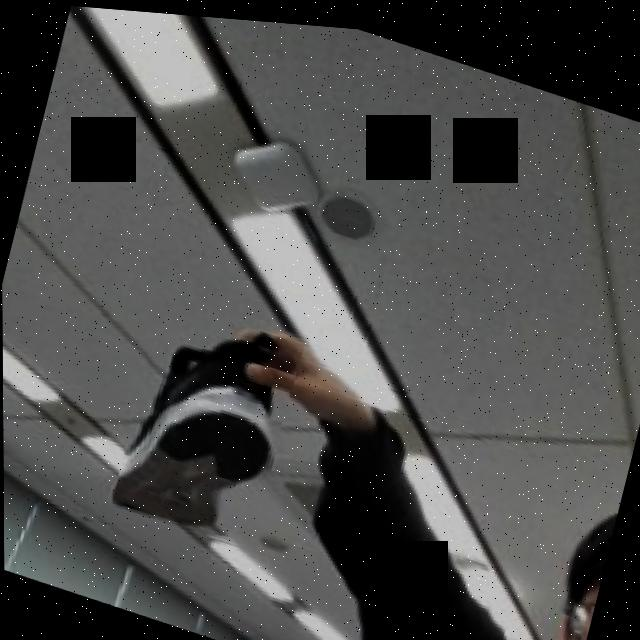shoe: (109, 292, 304, 553)
